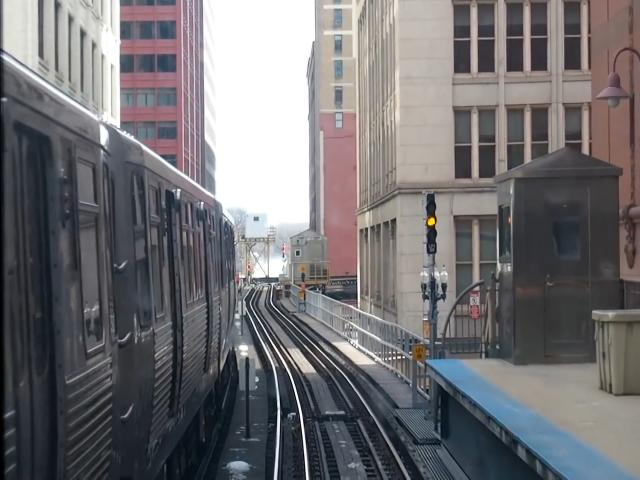signal light: (424, 190, 441, 260), (249, 260, 253, 278), (283, 244, 286, 261)
